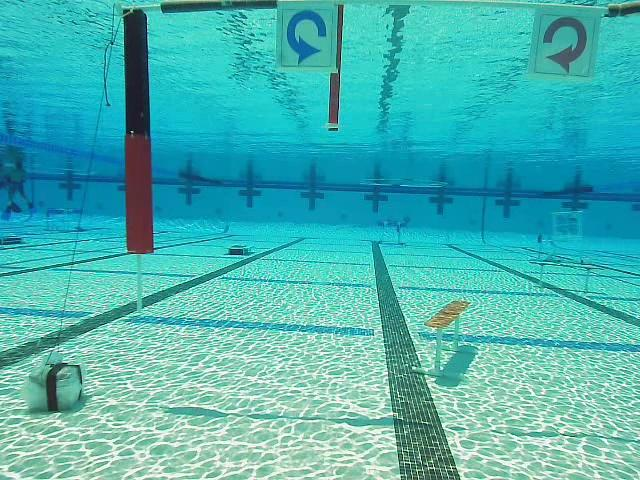gate_blue: (277, 0, 338, 74)
gate_leg_l: (123, 6, 153, 253)
gate_red: (528, 9, 600, 80)
table: (375, 220, 408, 247)
torpedo: (553, 211, 584, 239)
